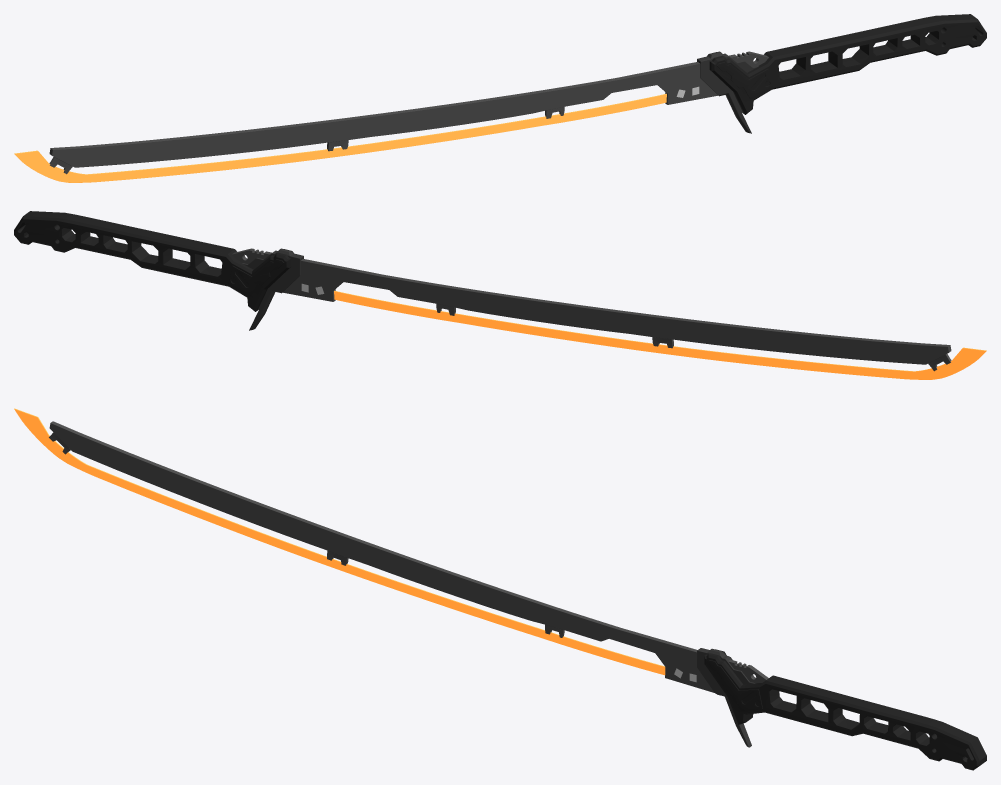
The model's file is CYBERPUNK_KATANA.fbx.
The picture shows the model from 3 angles, top to bottom: view 1: azimuth 30°, elevation 25°; view 2: azimuth 150°, elevation 25°; view 3: azimuth 330°, elevation 25°; orthographic projection.
Visible parts, largest first — view 1: Plane.006, Plane, Cube.001, Cube; view 2: Plane.006, Plane, Cube.001, Cube; view 3: Plane.006, Plane, Cube.001, Cube.
Boxes of the visible parts, bbox=[...] form: Plane.006: bbox=[49, 51, 768, 174]; Plane: bbox=[707, 14, 986, 114]; Cube.001: bbox=[14, 93, 666, 182]; Cube: bbox=[697, 51, 758, 133]; Plane.006: bbox=[232, 248, 951, 371]; Plane: bbox=[14, 211, 293, 311]; Cube.001: bbox=[334, 290, 986, 379]; Cube: bbox=[242, 248, 303, 330]; Plane.006: bbox=[49, 421, 768, 692]; Plane: bbox=[704, 649, 986, 770]; Cube.001: bbox=[14, 408, 665, 675]; Cube: bbox=[697, 648, 755, 747].
Size of what is drawn, in the model's own units: 359 by 56.18 by 6.4.
